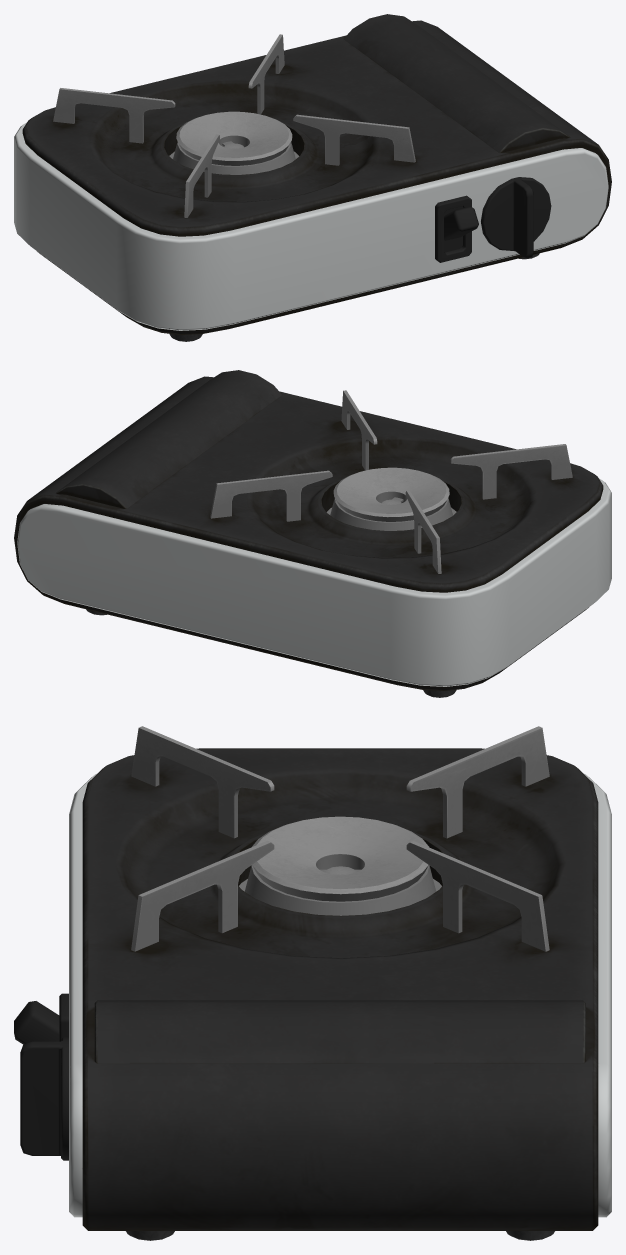
File: GasBurner_01.FBX
3 views of the same model, one above another, from view 1: azimuth 30°, elevation 25°; view 2: azimuth 150°, elevation 25°; view 3: azimuth 270°, elevation 25° (orthographic). The views are drawn at different scales.
Visible parts, largest first — view 1: GasBurner_01; view 2: GasBurner_01; view 3: GasBurner_01.
Part boxes in pixels (bbox=[...]): GasBurner_01: bbox=[14, 14, 611, 341]; GasBurner_01: bbox=[14, 370, 611, 697]; GasBurner_01: bbox=[14, 726, 611, 1240].
Size of the model in its own units: 30.5 by 9.94 by 22.03.
